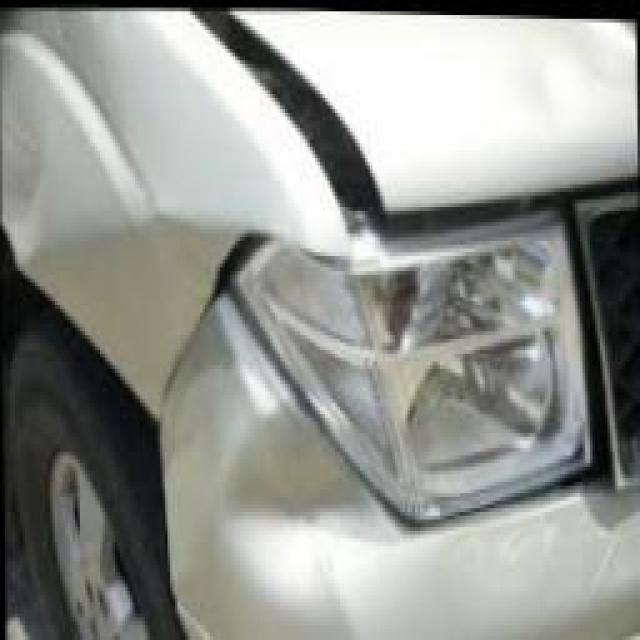Bonnet: (178, 8, 639, 249)
Bumper: (160, 289, 481, 640)
Fender: (0, 97, 302, 418)
